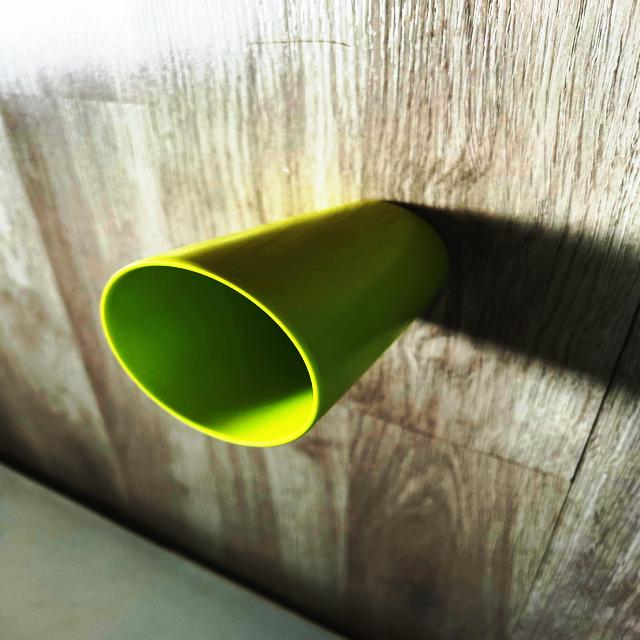WaterGlass: (101, 202, 449, 446)
